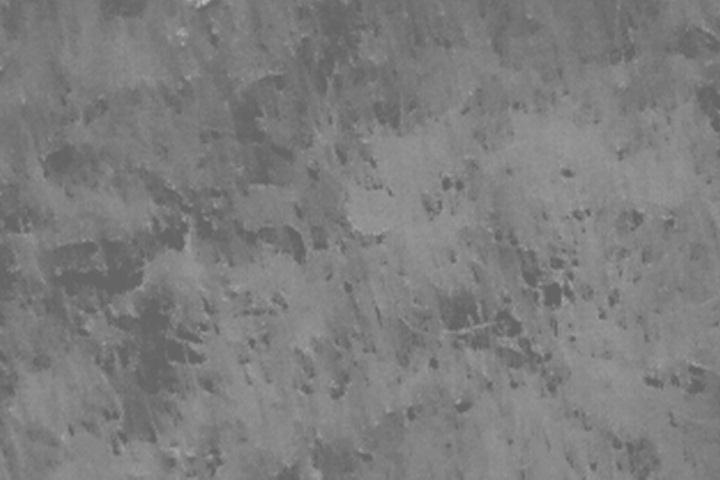landmine: (345, 185, 401, 239)
